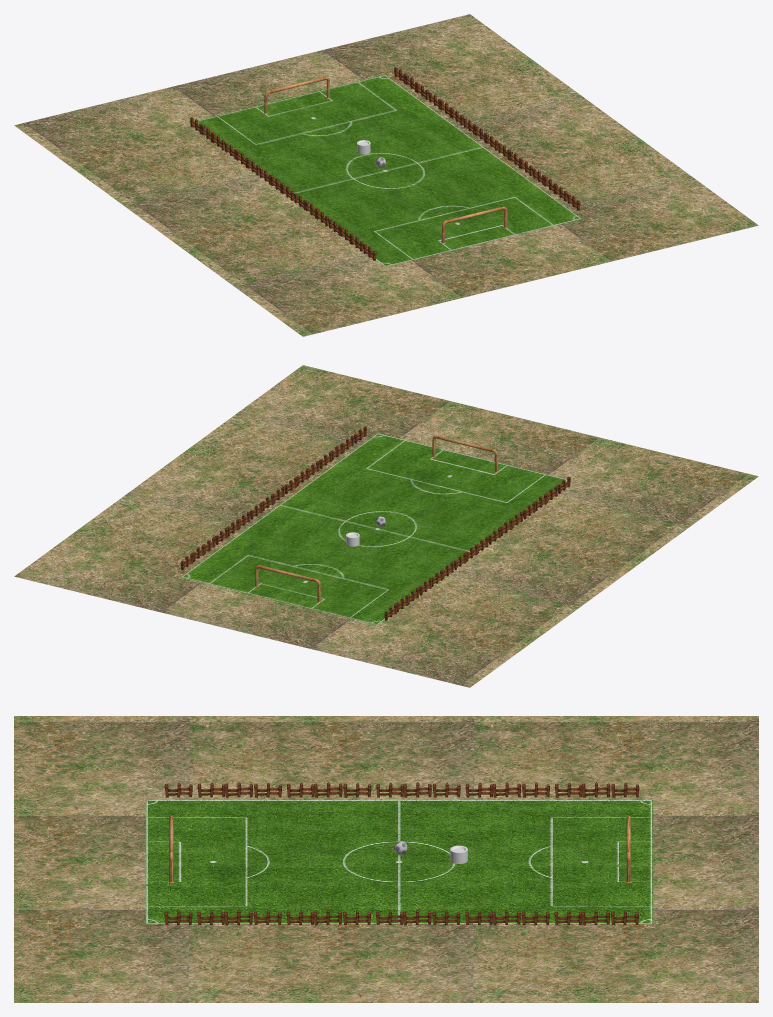
Rendered from soccer.fbx.
3 views of the same model, one above another, from view 1: azimuth 30°, elevation 25°; view 2: azimuth 150°, elevation 25°; view 3: azimuth 270°, elevation 25° (orthographic). The views are drawn at different scales.
Visible parts, largest first — view 1: ground, soccer_field; view 2: ground, soccer_field; view 3: ground, soccer_field.
Boxes of the visible parts, left/top/right/bottom form: ground: left=14, top=14, right=758, bottom=336; soccer_field: left=189, top=75, right=581, bottom=266; ground: left=14, top=365, right=758, bottom=687; soccer_field: left=181, top=433, right=573, bottom=624; ground: left=14, top=716, right=758, bottom=1002; soccer_field: left=145, top=800, right=653, bottom=923.
Size of the model in its own units: 18.65 by 0.8533 by 20.47.
